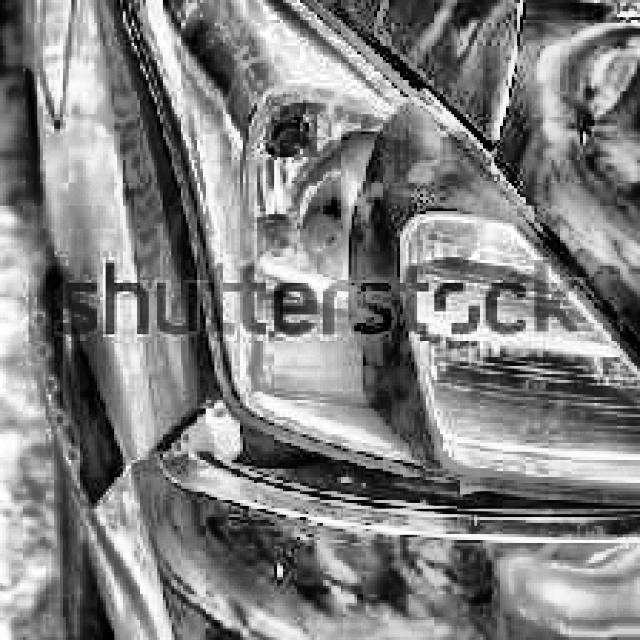tail_lamp: (264, 106, 452, 340)
